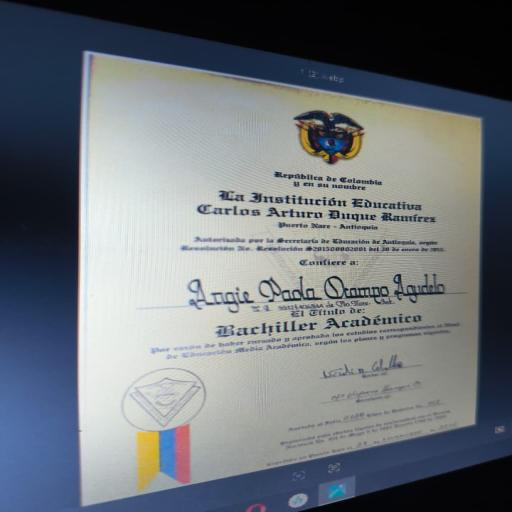bachillerato: (187, 309, 439, 347)
diploma: (85, 53, 484, 507)
escudo: (277, 99, 382, 175)
firma: (294, 339, 434, 389)
institucion: (173, 176, 462, 232)
nombre: (154, 267, 457, 312)
